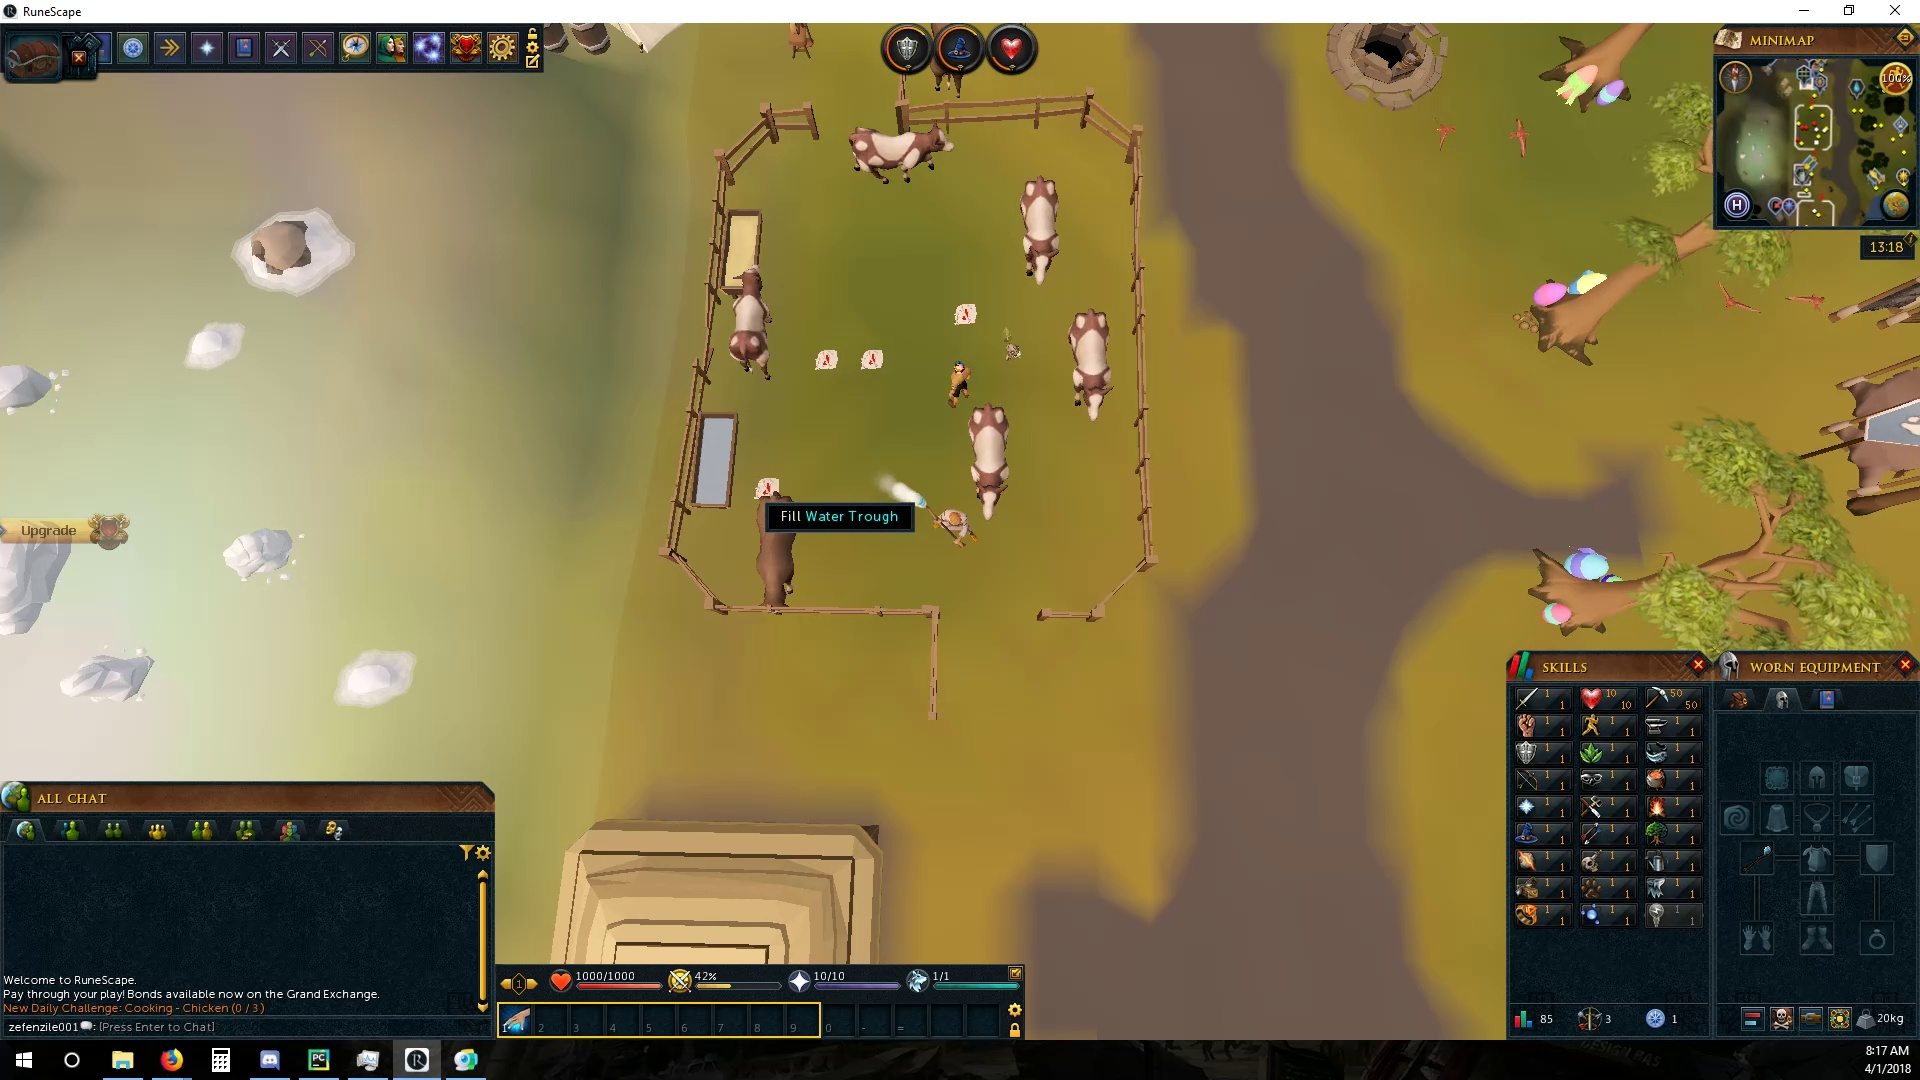cow: (845, 121, 957, 187), (754, 492, 803, 613), (1065, 309, 1116, 422), (729, 262, 777, 378), (967, 402, 1013, 521), (1015, 171, 1064, 284)
cow_drop: (948, 301, 980, 328), (855, 345, 887, 371), (815, 344, 837, 371), (753, 475, 786, 492)
